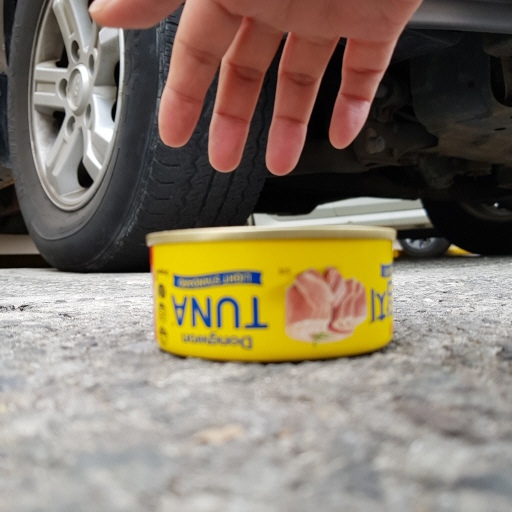Metal_1: (143, 224, 399, 361)
